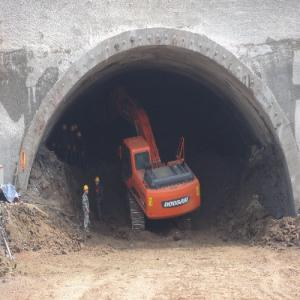yellow: (84, 185, 90, 195), (95, 176, 101, 186), (63, 124, 68, 133), (77, 132, 82, 140), (71, 126, 76, 134)
